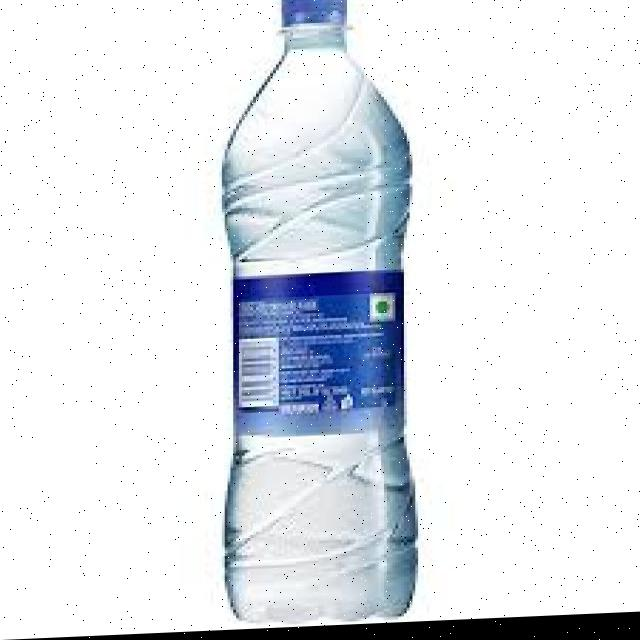bottle: (196, 0, 434, 633)
